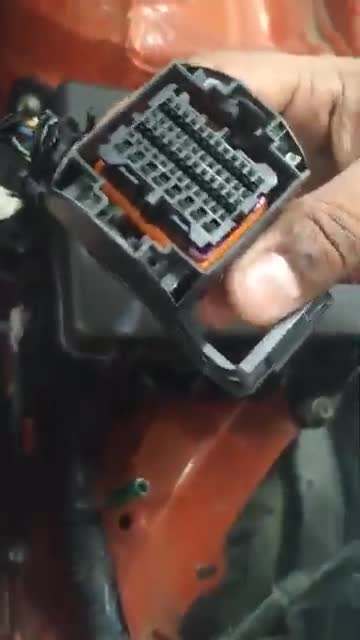connector: (52, 59, 311, 306)
